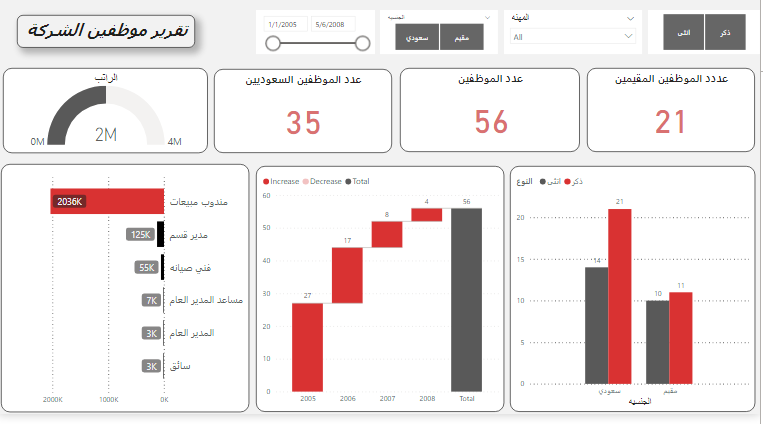

This screenshot's page, from the dashboard's own definition file:
{"tool":"powerbi","page":{"name":"Page 1","canvas":[1280,720],"ordinal":0},"visuals":[{"type":"card","title":"عددد الموظفين المقيمين","fields":{"Values":["CountNonNull(Sheet1.الجنسيه)"]},"box":[989.4,139.7,282.2,141.1],"z":0},{"type":"card","title":"عدد الموظفين السعوديين","fields":{"Values":["CountNonNull(Sheet1.الجنسيه)"]},"box":[362.8,141.1,299,141.1],"z":1000},{"type":"card","title":"عدد الموظفين","fields":{"Values":["CountNonNull(Sheet1.الاسم)"]},"box":[675.3,139.4,302.4,141.1],"z":2000},{"type":"clusteredColumnChart","fields":{"Category":["Sheet1.الجنسيه"],"Y":["CountNonNull(Sheet1.الجنسيه)"],"Series":["Sheet1.النوع "]},"box":[860.1,304,411.5,413.2],"z":3000},{"type":"waterfallChart","fields":{"Y":["CountNonNull(Sheet1.تاريخ المباشرة  )"],"Category":["Sheet1.تاريخ المباشرة  .Variation.Date Hierarchy.Year"]},"box":[433.4,304,416.6,413.2],"z":4000},{"type":"clusteredBarChart","fields":{"Category":["Sheet1.المهنه"],"Y":["Sum(Sheet1.الراتب)"]},"box":[5,300.7,416.6,416.6],"z":5000},{"type":"gauge","fields":{"Y":["Sum(Sheet1.الراتب)"]},"box":[8.4,139.2,344.4,142.8],"z":6000},{"type":"slicer","fields":{"Values":["Sheet1.النوع "]},"box":[1091.9,41.7,188.1,73.9],"z":7000},{"type":"slicer","fields":{"Values":["Sheet1.المهنه"]},"box":[850,42,231.8,73.9],"z":8000},{"type":"slicer","fields":{"Values":["Sheet1.الجنسيه"]},"box":[641.7,42,198.2,73.9],"z":9000},{"type":"slicer","fields":{"Values":["Sheet1.تاريخ المباشرة  "]},"box":[433.4,42,199.9,73.9],"z":10000},{"type":"textbox","box":[31.9,50.4,299,55.4],"z":11000}]}

Visuals, with their boxes in screenshot pixels (x1, y1, x2, y2), scaled from the page's 1280x720 canvas onto the 763x424 screenshot:
"عددد الموظفين المقيمين" card: Rect(590, 82, 758, 165)
"عدد الموظفين السعوديين" card: Rect(216, 83, 394, 166)
"عدد الموظفين" card: Rect(403, 82, 583, 165)
clusteredColumnChart - Sheet1.الجنسيه x CountNonNull(Sheet1.الجنسيه): Rect(513, 179, 758, 422)
waterfallChart - CountNonNull(Sheet1.تاريخ المباشرة  ) x Sheet1.تاريخ المباشرة  .Variation.Date Hierarchy.Year: Rect(258, 179, 507, 422)
clusteredBarChart - Sheet1.المهنه x Sum(Sheet1.الراتب): Rect(3, 177, 251, 422)
gauge - Sum(Sheet1.الراتب): Rect(5, 82, 210, 166)
slicer - Sheet1.النوع : Rect(651, 25, 762, 68)
slicer - Sheet1.المهنه: Rect(507, 25, 645, 68)
slicer - Sheet1.الجنسيه: Rect(383, 25, 501, 68)
slicer - Sheet1.تاريخ المباشرة  : Rect(258, 25, 378, 68)
textbox: Rect(19, 30, 197, 62)
